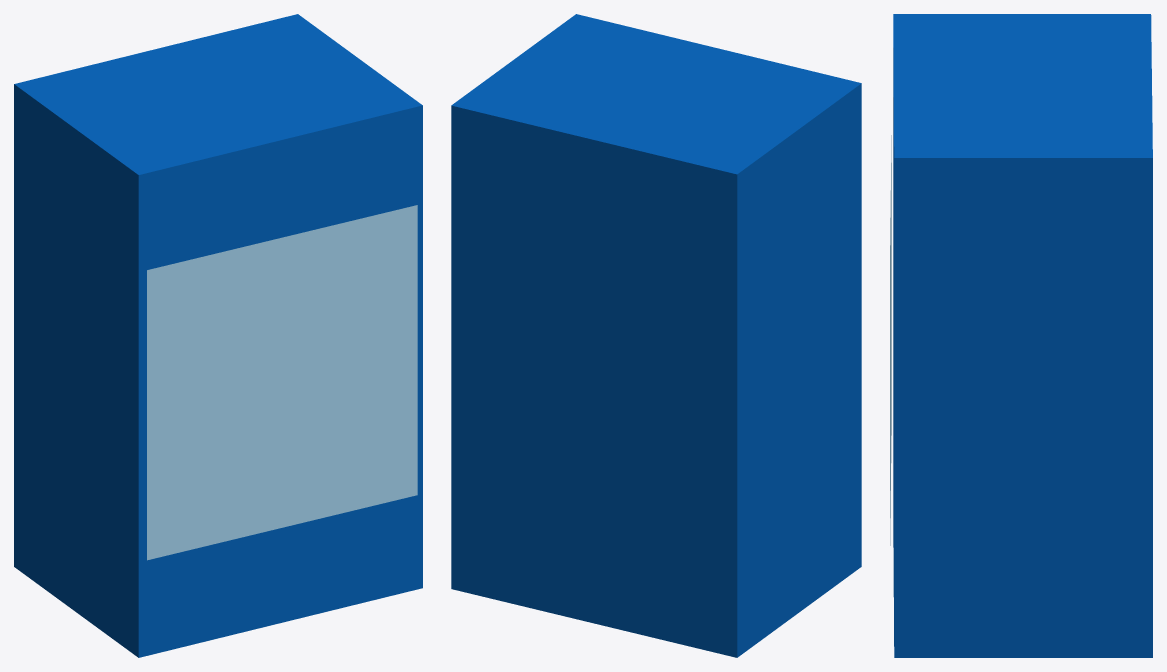
The model's file is shop_009.glb.
The picture shows the model from 3 angles, left to right: view 1: azimuth 30°, elevation 25°; view 2: azimuth 150°, elevation 25°; view 3: azimuth 270°, elevation 25°; orthographic projection. The views are drawn at different scales.
Visible parts, largest first — view 1: shop_009; view 2: shop_009; view 3: shop_009.
Boxes of the visible parts, x1,y1,x2,y2 form: shop_009: (14, 14, 422, 657); shop_009: (451, 14, 861, 657); shop_009: (890, 14, 1152, 657).
Size of the model in its own units: 0.1019 by 0.1651 by 0.0787.
1 material, 1 textured.
